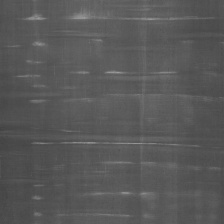waist_folding: (19, 9, 195, 203)
